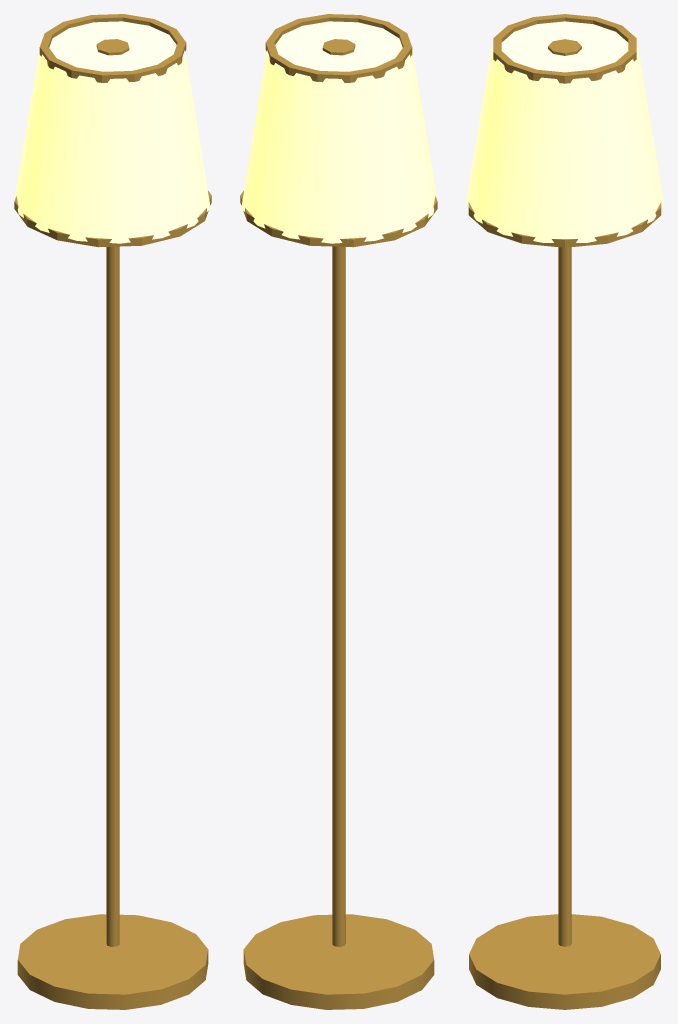
Rendered from floor_lamp.glb.
3 views of the same model, side by side, from view 1: azimuth 30°, elevation 25°; view 2: azimuth 150°, elevation 25°; view 3: azimuth 270°, elevation 25° (orthographic).
Visible parts, largest first — view 1: floor_lamp; view 2: floor_lamp; view 3: floor_lamp.
Part boxes in pixels (x1,y1,x2,y2): floor_lamp: [14, 14, 211, 1009]; floor_lamp: [240, 14, 437, 1009]; floor_lamp: [466, 14, 663, 1009].
Bounding box in the file's own units: 0.35 × 1.81 × 0.35.
